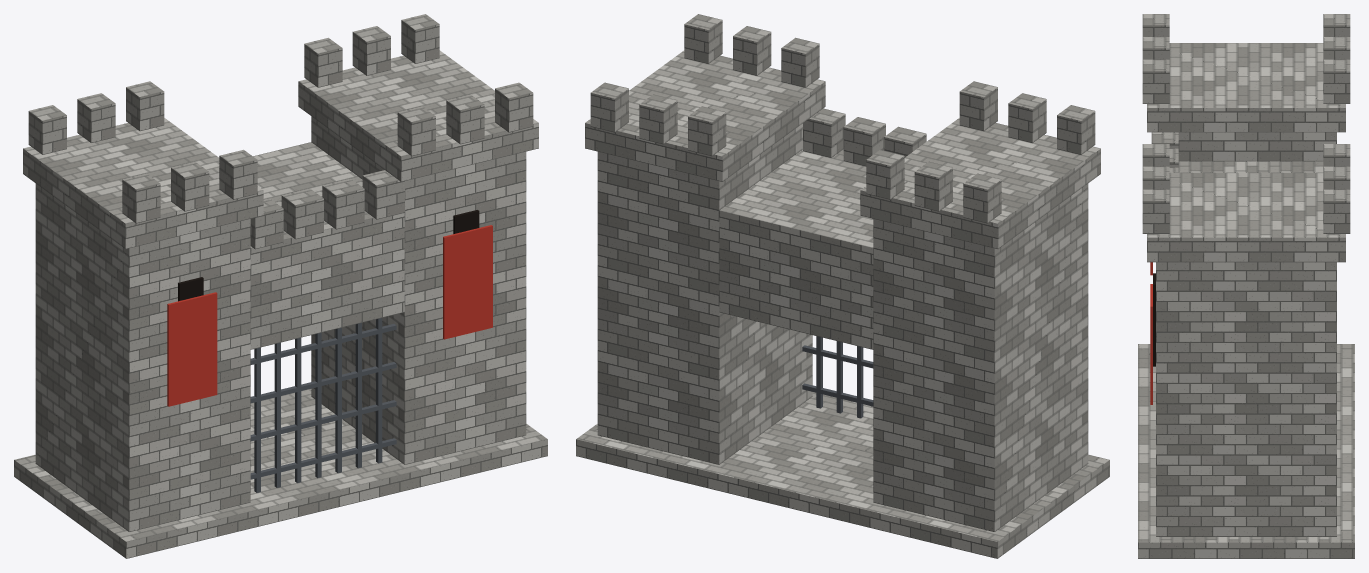
The model's file is gatehouse.glb.
3 views of the same model, side by side, from view 1: azimuth 30°, elevation 25°; view 2: azimuth 150°, elevation 25°; view 3: azimuth 270°, elevation 25° (orthographic). The views are drawn at different scales.
Parts seen in each view (by area): view 1: gatehouse; view 2: gatehouse; view 3: gatehouse.
Part boxes in pixels (x1=…): gatehouse: x1=14, y1=14, x2=547, y2=558; gatehouse: x1=576, y1=14, x2=1109, y2=558; gatehouse: x1=1138, y1=14, x2=1354, y2=558.
Size of the model in its own units: 5.2 by 4.3 by 2.4.
Materials: 4 (1 with a texture image).
